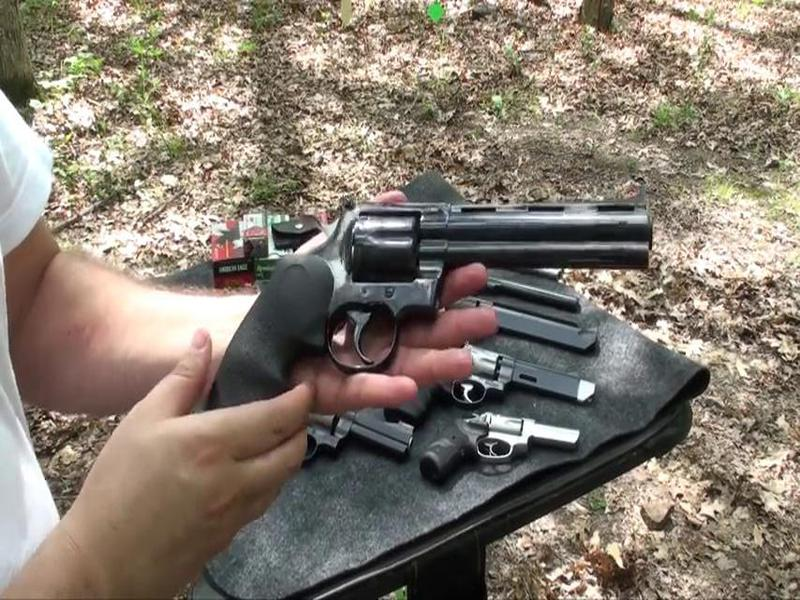Revolver: (213, 189, 659, 391)
